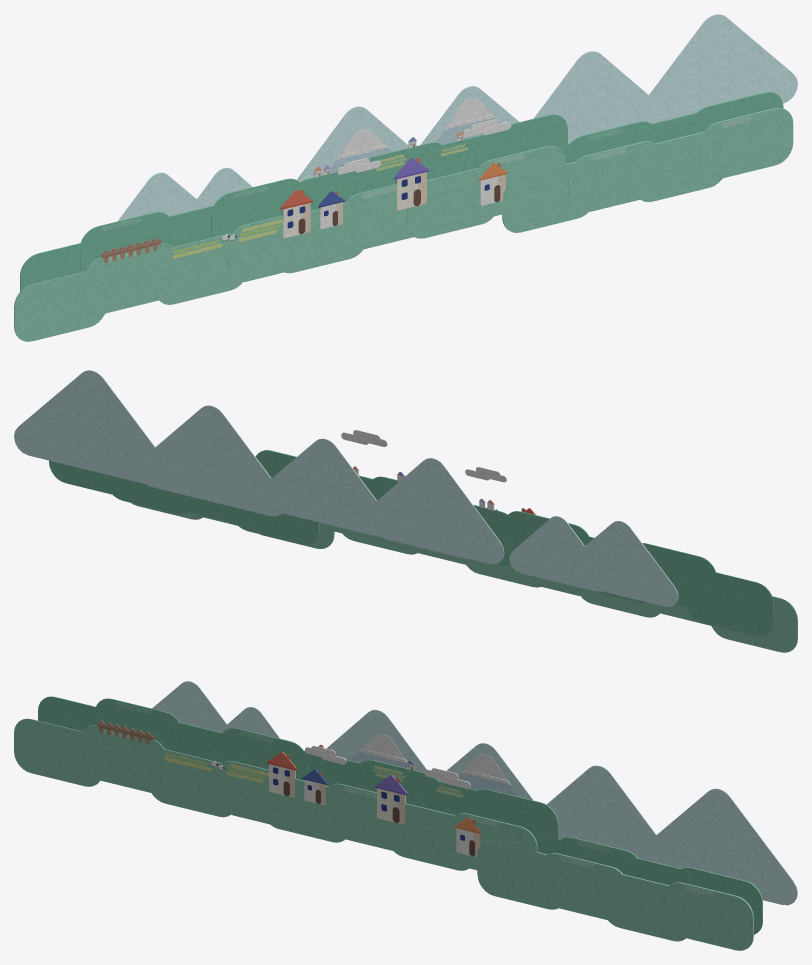
File: decor_level4.glb
3 renders of one model, top to bottom at view 1: azimuth 30°, elevation 25°; view 2: azimuth 150°, elevation 25°; view 3: azimuth 330°, elevation 25°, orthographic. The views are drawn at different scales.
Visible parts, largest first — view 1: L4_laag8_heuvelsvoor_05.003, L4_laag10_bergenver_03.003, L4_laag8_heuvelsvoor_01.003, L4_laag8_heuvelsvoor_03.003, L4_laag9_heuvelsachter_03.003, L4_laag9_heuvelsachter_02.003, L4_laag10_bergen_02.003, L4_laag9_heuvelsachter_05.003, L4_laag8_dorp_04.003, L4_laag10_bergen_01.003, L4_laag8_weiland_02.003, L4_laag7_wolken_01.003; view 2: L4_laag10_bergenver_03.003, L4_laag10_bergen_02.003, L4_laag10_bergen_01.003, L4_laag9_heuvelsachter_03.003, L4_laag9_heuvelsachter_05.003, L4_laag8_heuvelsvoor_01.003, L4_laag9_heuvelsachter_02.003, L4_laag8_heuvelsvoor_03.003, L4_laag7_wolken_01.003, L4_laag8_heuvelsvoor_05.003; view 3: L4_laag8_heuvelsvoor_05.003, L4_laag10_bergenver_03.003, L4_laag8_heuvelsvoor_01.003, L4_laag8_heuvelsvoor_03.003, L4_laag9_heuvelsachter_03.003, L4_laag9_heuvelsachter_02.003, L4_laag10_bergen_02.003, L4_laag9_heuvelsachter_05.003, L4_laag8_dorp_04.003, L4_laag10_bergen_01.003, L4_laag8_weiland_02.003, L4_laag7_wolken_01.003.
Part boxes in pixels (x1,y1,x2,y2): L4_laag8_heuvelsvoor_05.003: [502, 107, 793, 232]; L4_laag10_bergenver_03.003: [534, 14, 797, 143]; L4_laag8_heuvelsvoor_01.003: [14, 215, 283, 341]; L4_laag8_heuvelsvoor_03.003: [275, 145, 565, 273]; L4_laag9_heuvelsachter_03.003: [20, 178, 303, 291]; L4_laag9_heuvelsachter_02.003: [300, 114, 567, 210]; L4_laag10_bergen_02.003: [297, 86, 518, 181]; L4_laag9_heuvelsachter_05.003: [558, 92, 783, 163]; L4_laag8_dorp_04.003: [280, 157, 507, 238]; L4_laag10_bergen_01.003: [118, 167, 252, 221]; L4_laag8_weiland_02.003: [101, 219, 282, 262]; L4_laag7_wolken_01.003: [337, 119, 511, 174]; L4_laag10_bergenver_03.003: [14, 370, 281, 516]; L4_laag10_bergen_02.003: [260, 438, 504, 564]; L4_laag10_bergen_01.003: [509, 516, 678, 606]; L4_laag9_heuvelsachter_03.003: [508, 511, 773, 636]; L4_laag9_heuvelsachter_05.003: [49, 460, 319, 544]; L4_laag8_heuvelsvoor_01.003: [508, 564, 797, 652]; L4_laag9_heuvelsachter_02.003: [255, 450, 517, 565]; L4_laag8_heuvelsvoor_03.003: [319, 522, 540, 587]; L4_laag7_wolken_01.003: [341, 430, 506, 482]; L4_laag8_heuvelsvoor_05.003: [131, 503, 334, 548]; L4_laag8_heuvelsvoor_05.003: [477, 841, 753, 950]; L4_laag10_bergenver_03.003: [547, 765, 797, 905]; L4_laag8_heuvelsvoor_01.003: [14, 718, 295, 824]; L4_laag8_heuvelsvoor_03.003: [261, 776, 537, 870]; L4_laag9_heuvelsachter_03.003: [38, 696, 307, 780]; L4_laag9_heuvelsachter_02.003: [304, 751, 558, 838]; L4_laag10_bergen_02.003: [326, 709, 533, 800]; L4_laag9_heuvelsachter_05.003: [531, 832, 762, 934]; L4_laag8_dorp_04.003: [266, 751, 482, 857]; L4_laag10_bergen_01.003: [152, 681, 280, 738]; L4_laag8_weiland_02.003: [97, 720, 268, 783]; L4_laag7_wolken_01.003: [305, 746, 470, 788].
Size of the model in its own units: 67.21 by 12.05 by 4.27.
46 materials, 46 textured.
